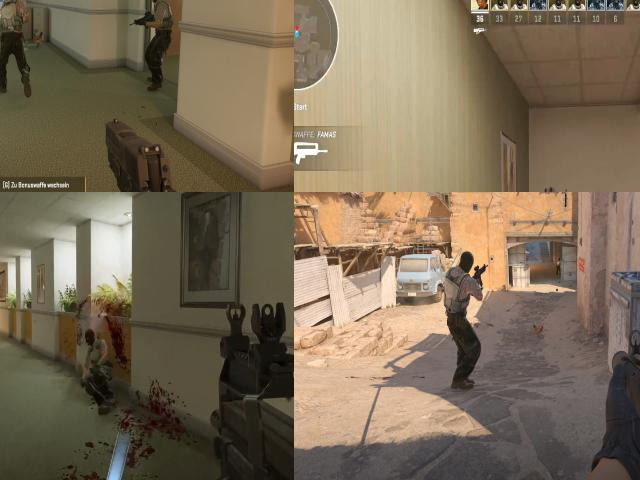CT: (542, 185, 562, 192)
Dead: (79, 328, 110, 397)
T: (445, 250, 481, 378), (2, 0, 22, 92), (148, 0, 169, 85), (556, 258, 561, 272)
T-Head: (457, 250, 476, 278), (558, 258, 560, 260)
